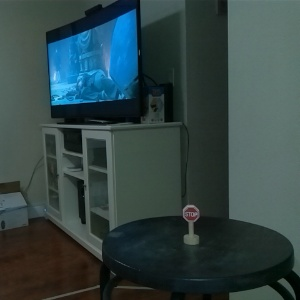stop sign: (179, 203, 202, 247)
